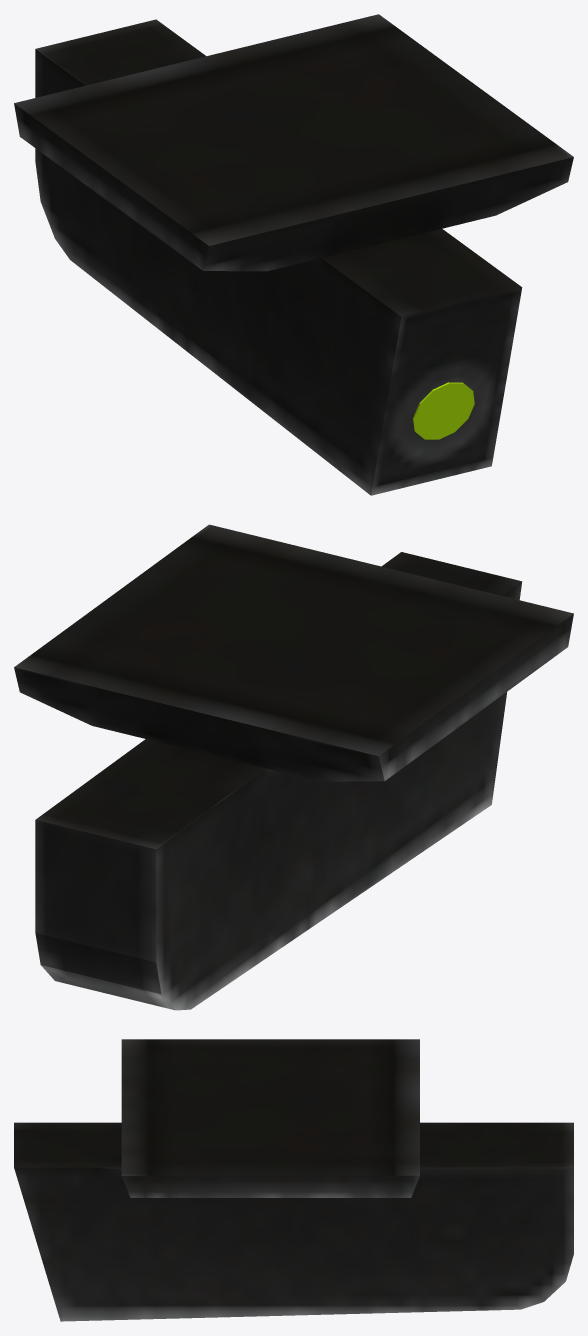
The picture shows the model from 3 angles, top to bottom: view 1: azimuth 30°, elevation 25°; view 2: azimuth 150°, elevation 25°; view 3: azimuth 270°, elevation 25°; orthographic projection. The views are drawn at different scales.
Parts seen in each view (by area): view 1: TW_5f3e78a7fbf956000b716b8e_PZ_Import; view 2: TW_5f3e78a7fbf956000b716b8e_PZ_Import; view 3: TW_5f3e78a7fbf956000b716b8e_PZ_Import.
Part boxes in pixels (left/top/right/bottom): TW_5f3e78a7fbf956000b716b8e_PZ_Import: left=14, top=14, right=573, bottom=495; TW_5f3e78a7fbf956000b716b8e_PZ_Import: left=14, top=524, right=573, bottom=1010; TW_5f3e78a7fbf956000b716b8e_PZ_Import: left=14, top=1039, right=573, bottom=1321.
Bounding box in the file's own units: 0.00533 × 0.00926 × 0.00349.
Materials: 1 (1 with a texture image).
